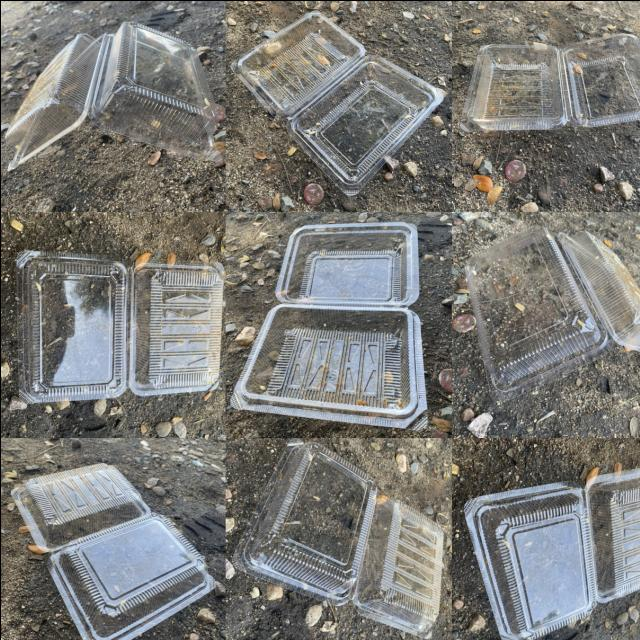plastik: (233, 439, 442, 637), (230, 221, 427, 428), (232, 11, 444, 195), (10, 463, 213, 640), (4, 22, 225, 170), (16, 250, 222, 402), (465, 226, 640, 400), (465, 467, 640, 640), (460, 32, 640, 130)
